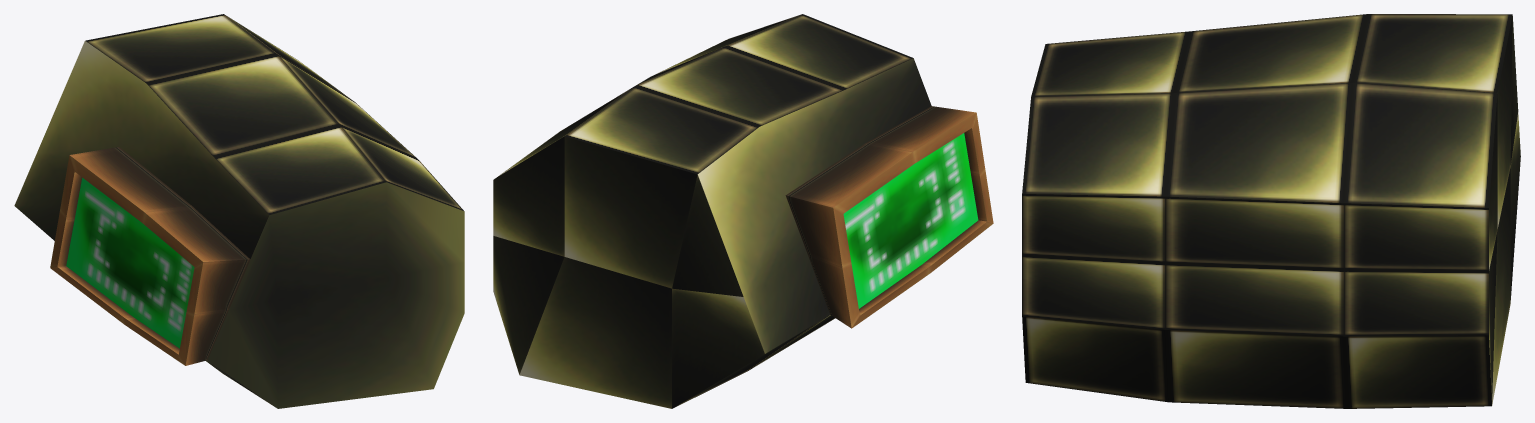
Rendered from simple_left.DAE.
The picture shows the model from 3 angles, left to right: view 1: azimuth 30°, elevation 25°; view 2: azimuth 150°, elevation 25°; view 3: azimuth 270°, elevation 25°; orthographic projection. The views are drawn at different scales.
Parts seen in each view (by area): view 1: Box02; view 2: Box02; view 3: Box02.
Part boxes in pixels (x1,y1,x2,y2): Box02: (14, 14, 464, 408); Box02: (493, 14, 993, 408); Box02: (1022, 14, 1520, 408).
Size of the model in its own units: 0.175 by 0.1419 by 0.214.
